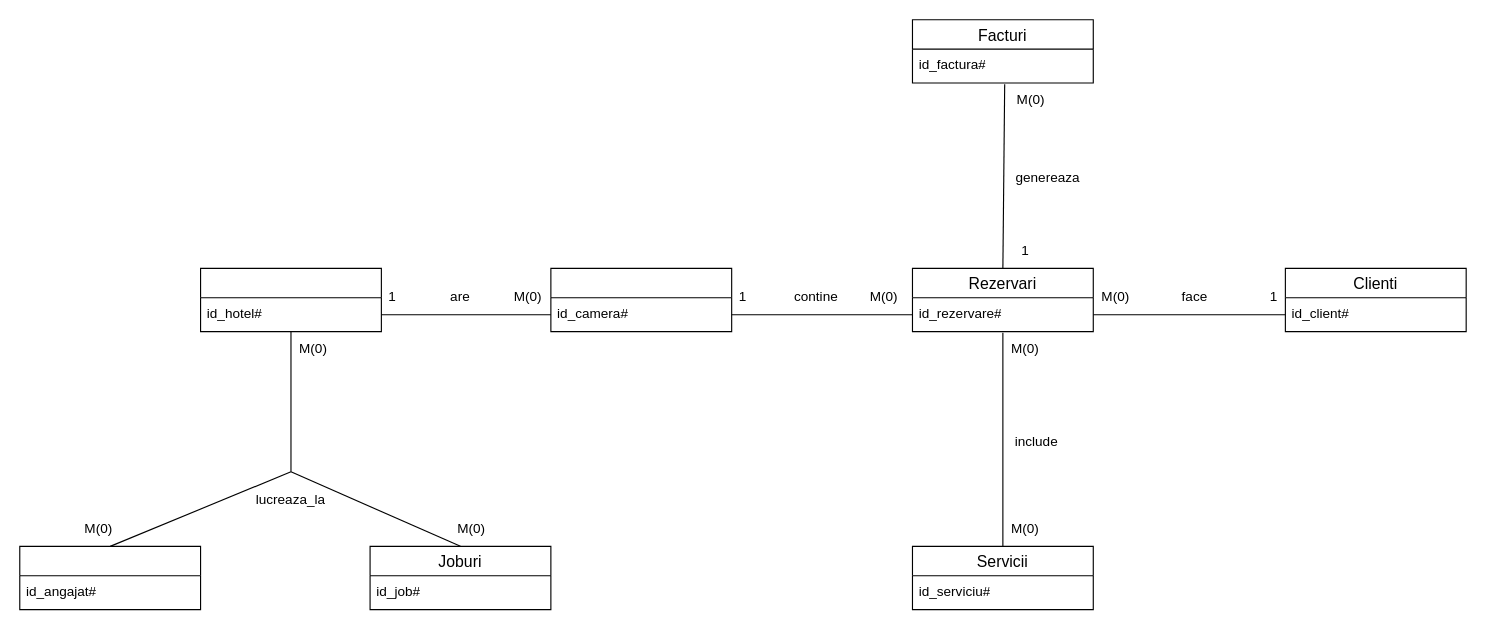
Some shapes in this 1486 by 633 pixel diagram are drawn without their labels. The box of each missing label's shape, as (x1, y1, x2, y2) in pixels:
Angajati: (19, 545, 201, 610)
Camere: (550, 267, 732, 332)
Hoteluri: (199, 267, 381, 332)
